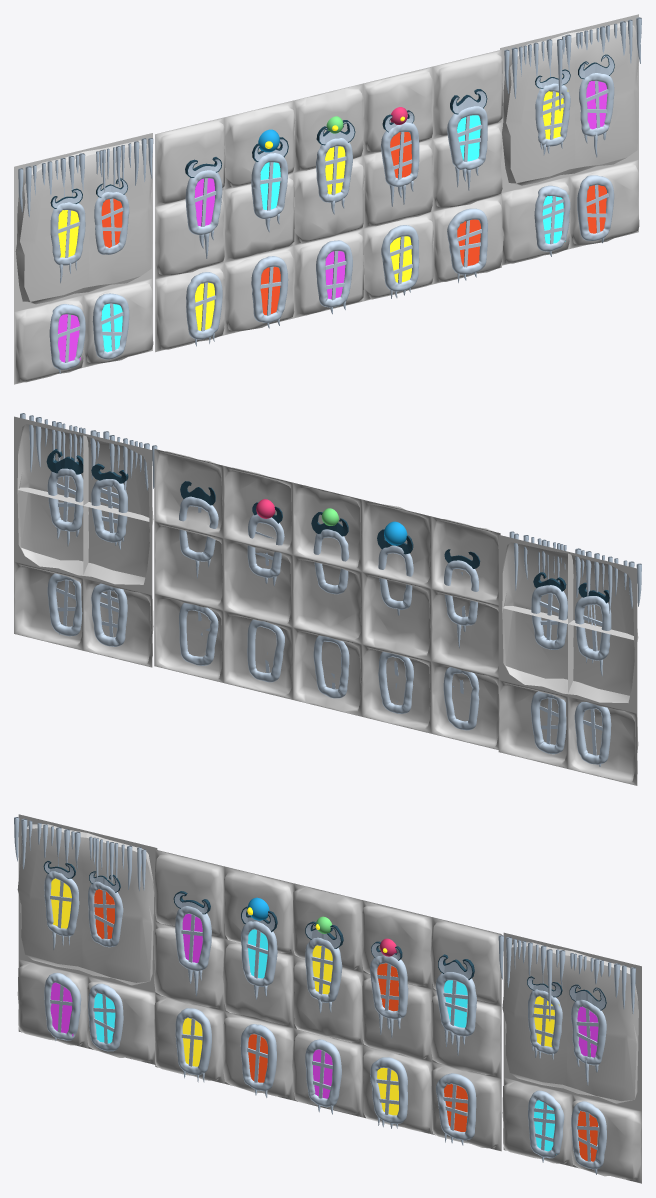
Rendered from 01_jegkocka_LACINAK.fbx.
3 views of the same model, one above another, from view 1: azimuth 30°, elevation 25°; view 2: azimuth 150°, elevation 25°; view 3: azimuth 330°, elevation 25° (orthographic).
Parts seen in each view (by area): view 1: Cube.306, Cube.277, Cube.310, Cube.284, Cube.281, Cube.280, Cube.283, Cube.282, Cube.304, Cube.279, Cube.285, Cube.278 (+56 smaller); view 2: Cube.307, Cube.283, Cube.284, Cube.286, Cube.292, Cube.285, Cube.282, Cube.306, Cube.277, Cube.280, Cube.281, Cube.288 (+44 smaller); view 3: Cube.307, Cube.277, Cube.292, Cube.280, Cube.283, Cube.284, Cube.282, Cube.281, Cube.309, Cube.279, Cube.286, Cube.285 (+55 smaller).
Part boxes in pixels (<box>): Cube.306: <box>14,226,89,311</box>; Cube.277: <box>155,117,225,206</box>; Cube.310: <box>502,108,575,192</box>; Cube.284: <box>293,156,364,245</box>; Cube.281: <box>432,49,503,138</box>; Cube.280: <box>363,66,432,155</box>; Cube.283: <box>224,173,294,262</box>; Cube.282: <box>155,190,224,279</box>; Cube.304: <box>14,150,88,241</box>; Cube.279: <box>293,83,364,172</box>; Cube.285: <box>363,139,434,228</box>; Cube.278: <box>224,100,295,189</box>; Cube.307: <box>14,489,88,577</box>; Cube.283: <box>362,572,431,660</box>; Cube.284: <box>293,555,362,644</box>; Cube.286: <box>154,521,223,610</box>; Cube.292: <box>498,607,573,696</box>; Cube.285: <box>223,538,292,627</box>; Cube.282: <box>431,589,498,677</box>; Cube.306: <box>568,624,638,713</box>; Cube.277: <box>431,516,500,604</box>; Cube.280: <box>223,466,292,554</box>; Cube.281: <box>154,449,223,537</box>; Cube.288: <box>362,644,431,733</box>; Cube.307: <box>567,1026,641,1110</box>; Cube.277: <box>153,849,224,938</box>; Cube.292: <box>82,908,155,992</box>; Cube.280: <box>361,900,432,989</box>; Cube.283: <box>222,939,293,1027</box>; Cube.284: <box>293,956,362,1044</box>; Cube.282: <box>154,922,224,1011</box>; Cube.281: <box>430,917,501,1006</box>; Cube.309: <box>567,949,641,1039</box>; Cube.279: <box>292,883,362,972</box>; Cube.286: <box>431,989,501,1078</box>; Cube.285: <box>362,972,432,1061</box>.
Size of the model in its own units: 1800 by 600 by 64.44.
